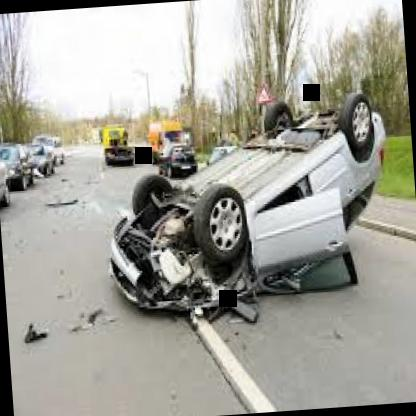accident: (95, 90, 412, 336)
